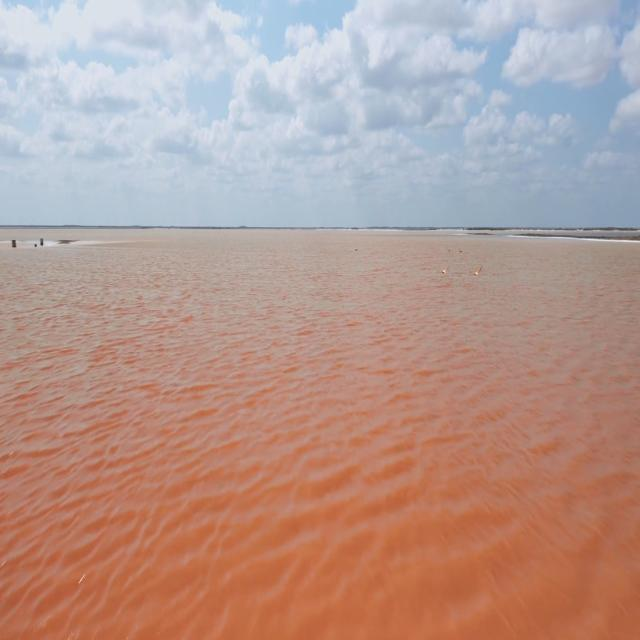bird: (472, 262, 484, 282), (439, 264, 451, 277), (446, 244, 452, 253), (458, 246, 463, 254)
